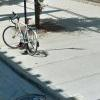Bicycle: (1, 9, 44, 56)
